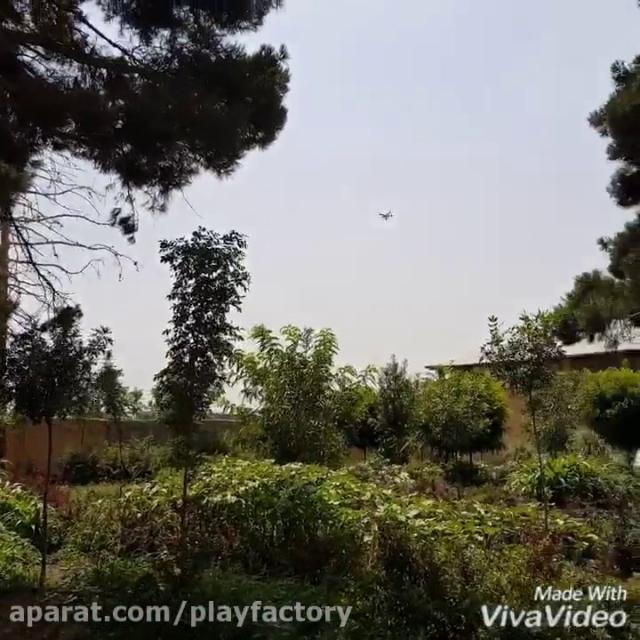drone: (371, 204, 401, 223)
